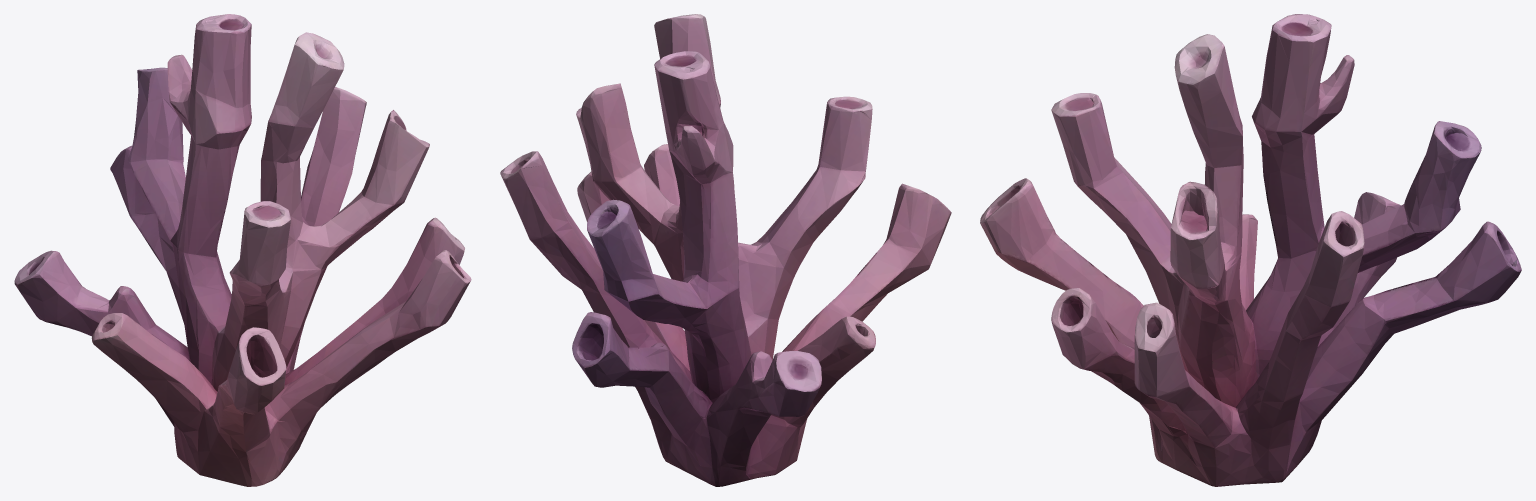
File: purple_saxifrage.glb
3 views of the same model, side by side, from view 1: azimuth 30°, elevation 25°; view 2: azimuth 150°, elevation 25°; view 3: azimuth 270°, elevation 25° (orthographic). The views are drawn at different scales.
Visible parts, largest first — view 1: world; view 2: world; view 3: world.
Boxes of the visible parts, left/top/right/bottom form: world: left=14, top=14, right=471, bottom=486; world: left=500, top=14, right=951, bottom=486; world: left=980, top=14, right=1521, bottom=486.
Size of the model in its own units: 0.795 by 0.9288 by 0.9953.
1 material, 1 textured.
